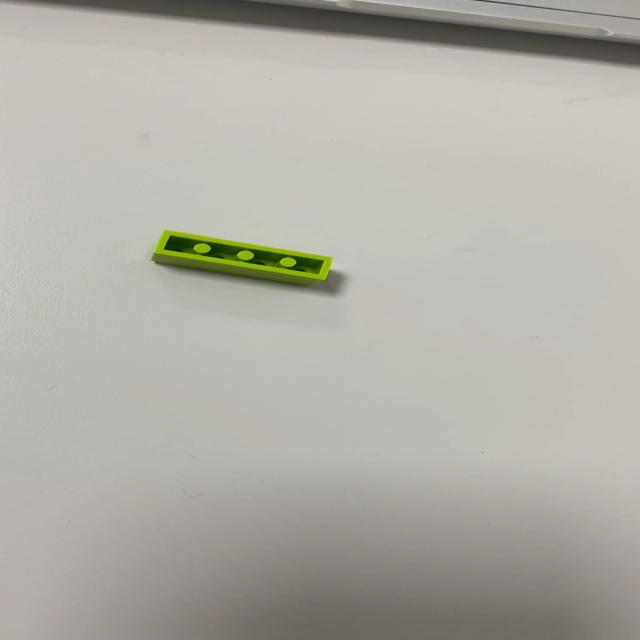C4x1x1: (148, 229, 334, 287)
